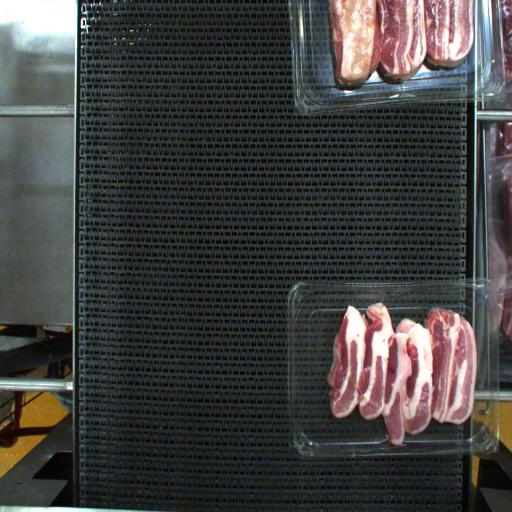packaging-error: (380, 425, 419, 465)
